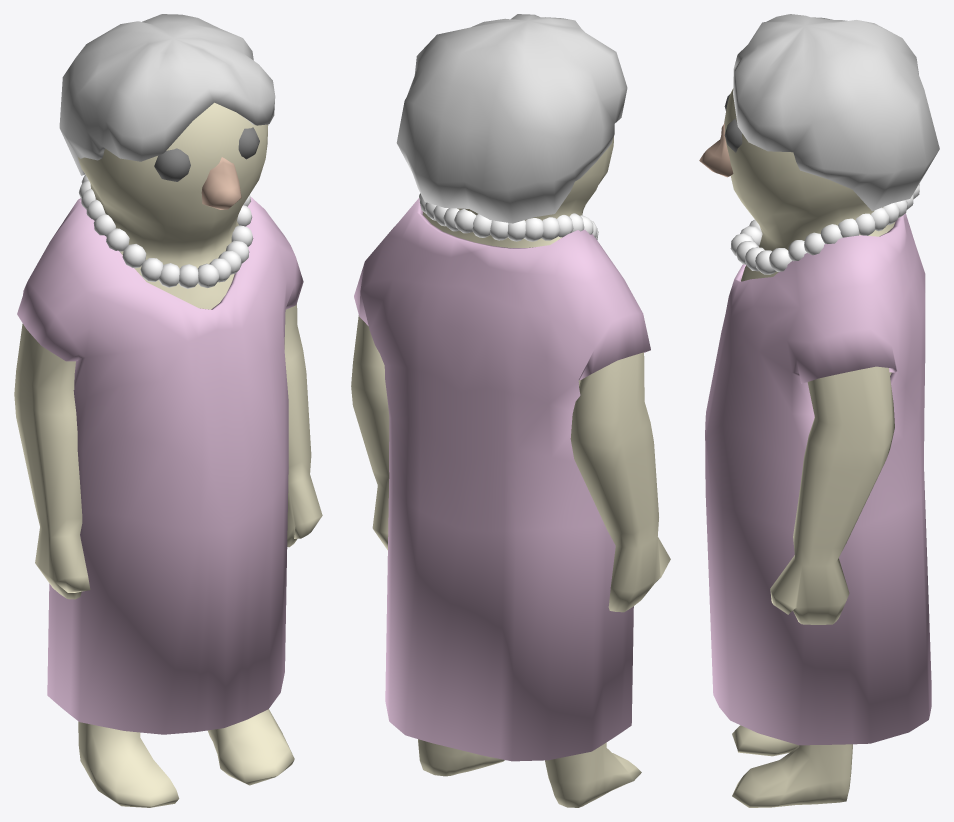
Rendered from oldLady.fbx.
3 renders of one model, left to right at view 1: azimuth 30°, elevation 25°; view 2: azimuth 150°, elevation 25°; view 3: azimuth 270°, elevation 25°, orthographic. The views are drawn at different scales.
Visible parts, largest first — view 1: vestito, OldLady, oldLadyHair, Collana, noseC, eye; view 2: vestito, oldLadyHair, OldLady, Collana; view 3: vestito, OldLady, oldLadyHair, Collana, noseC.
Part boxes in pixels (x1,y1,x2,y2): vestito: (17,196,303,734); OldLady: (14,102,322,807); oldLadyHair: (59,14,275,175); Collana: (79,175,253,288); noseC: (201,157,241,209); eye: (154,148,190,181); vestito: (354,198,650,761); oldLadyHair: (396,14,627,223); OldLady: (351,137,670,807); Collana: (419,193,598,241); vestito: (705,213,931,745); OldLady: (724,88,895,807); oldLadyHair: (733,14,939,211); Collana: (730,184,919,274); noseC: (699,123,733,177).
Bounding box in the file's own units: 73.04 × 194 × 56.8.
